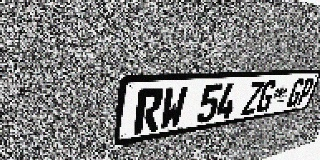4: (214, 82, 240, 120)
5: (196, 84, 223, 124)
G: (255, 80, 278, 113), (285, 78, 306, 108)
P: (295, 77, 316, 106)
R: (133, 88, 164, 135)
W: (158, 86, 188, 130)
Z: (241, 81, 265, 116)
